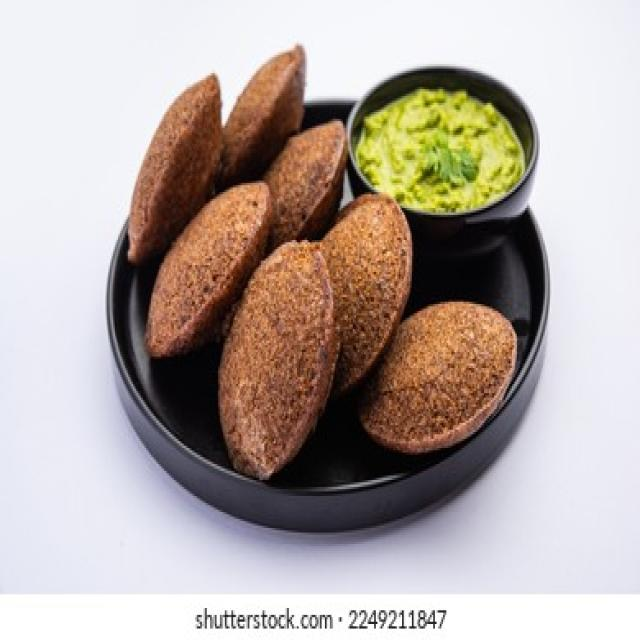IDLI: (217, 242, 332, 480), (358, 293, 516, 448), (144, 185, 274, 350), (316, 187, 412, 394), (124, 71, 223, 264), (220, 37, 308, 181), (269, 123, 349, 243)
